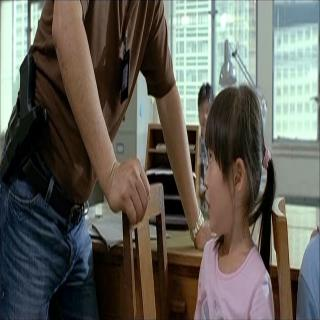gun: (1, 41, 50, 188)
